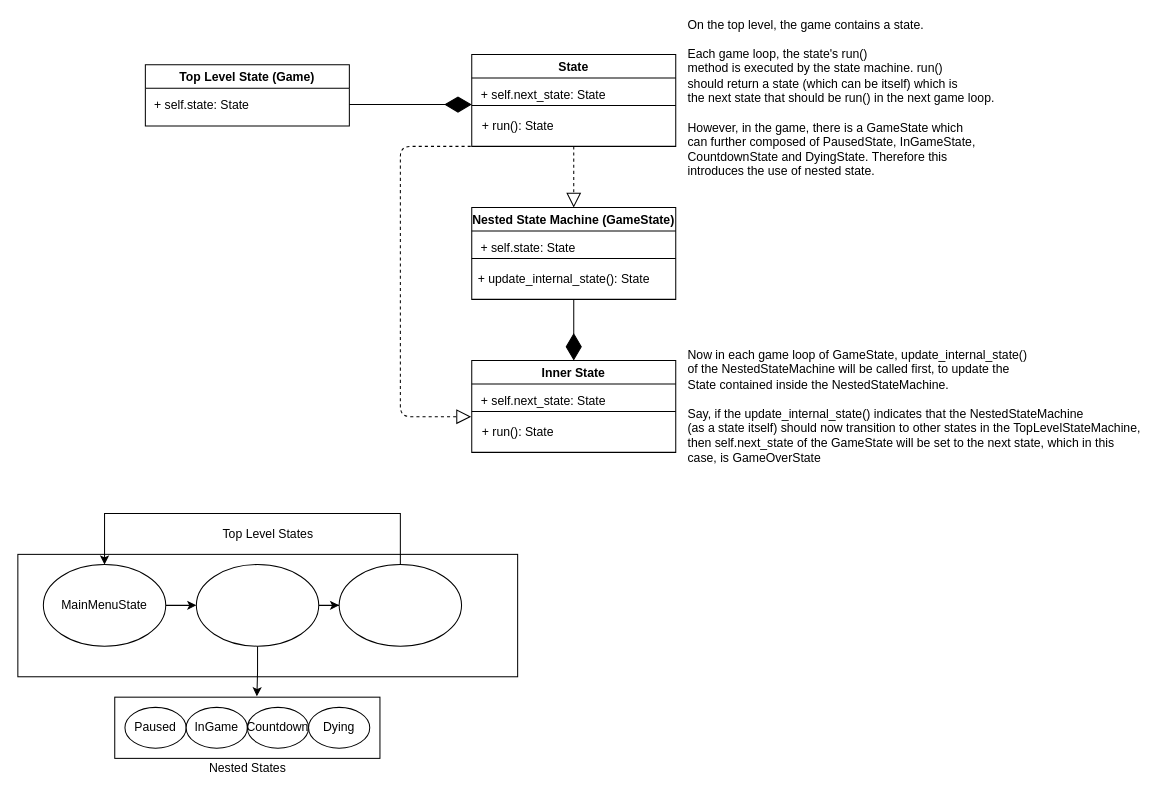
Image size: 1173x797. Some labels were removed from this diagram. The centre of each missing label's shape, as x and y in pixels:
GameOverState: the point at 400,605
GameState: the point at 257,605
